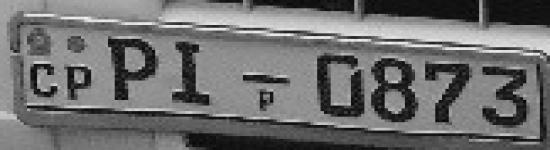-: (237, 72, 293, 88)
0: (314, 50, 368, 122)
3: (480, 62, 534, 131)
7: (424, 60, 474, 131)
8: (372, 53, 423, 123)
C: (28, 60, 61, 97)
I: (168, 37, 217, 106)
P: (106, 35, 161, 101), (65, 64, 96, 103)
